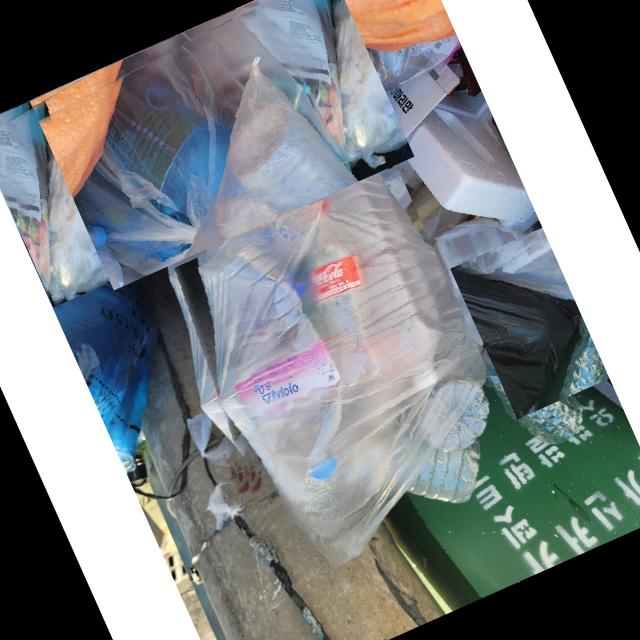other_trashbag: (171, 90, 483, 566), (70, 0, 344, 273), (34, 243, 157, 467), (43, 76, 137, 301), (456, 269, 578, 419)
